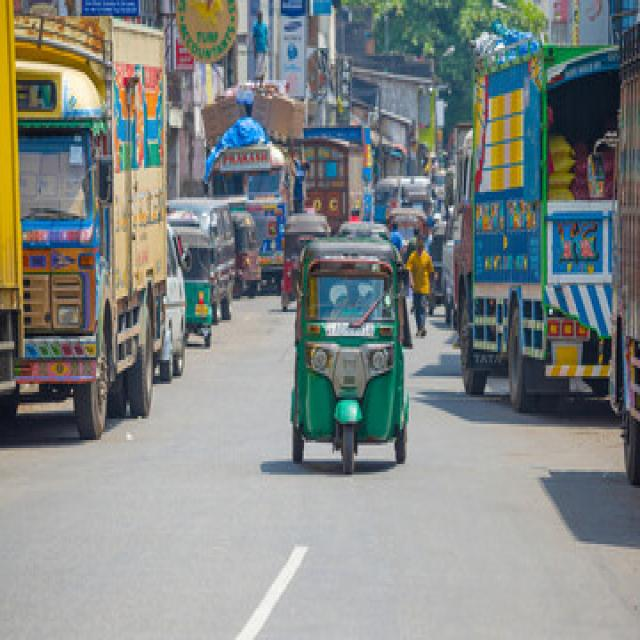person: (407, 235, 432, 336)
three wheeler: (292, 237, 409, 472), (281, 213, 329, 309), (231, 211, 260, 296), (174, 227, 210, 279), (185, 279, 210, 347)
truck: (14, 16, 165, 437), (457, 32, 619, 411), (208, 141, 284, 291), (302, 136, 361, 235)
van: (167, 197, 233, 323), (160, 227, 183, 381)
